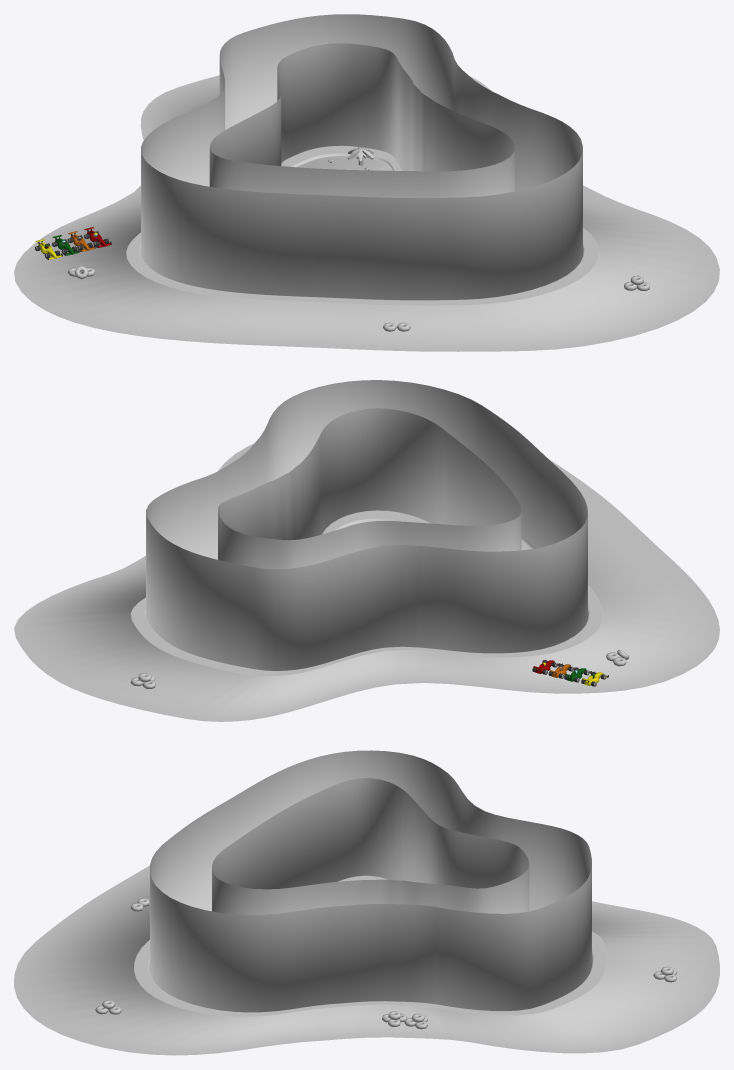
The model's file is Fase1.fbx.
The picture shows the model from 3 angles, top to bottom: view 1: azimuth 30°, elevation 25°; view 2: azimuth 150°, elevation 25°; view 3: azimuth 270°, elevation 25°; orthographic projection. The views are drawn at different scales.
Parts seen in each view (by area): view 1: Colisor, Pista; view 2: Colisor, Pista; view 3: Colisor, Pista.
Boxes of the visible parts, box(x1,y1,x2,y2) form: Colisor: box(141, 14, 582, 300); Pista: box(14, 75, 719, 351); Colisor: box(146, 380, 587, 670); Pista: box(14, 443, 719, 721); Colisor: box(150, 750, 591, 1012); Pista: box(14, 865, 719, 1055).
Bounding box in the file's own units: 3147 × 3570 × 554.
